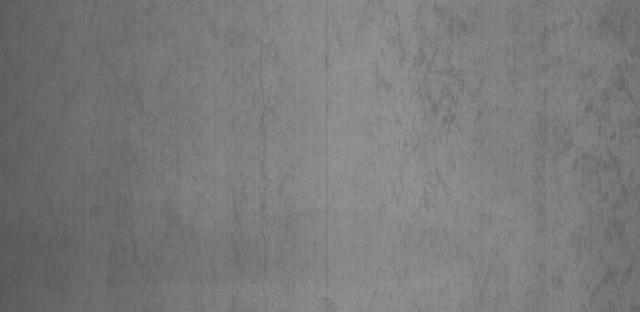silk_spot: (352, 0, 632, 304), (111, 4, 332, 300)
